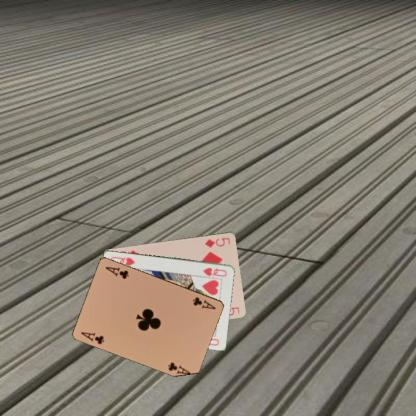5d: (202, 235, 232, 249)
Ac: (78, 328, 106, 346), (190, 294, 217, 310)
Qh: (201, 265, 228, 277)
